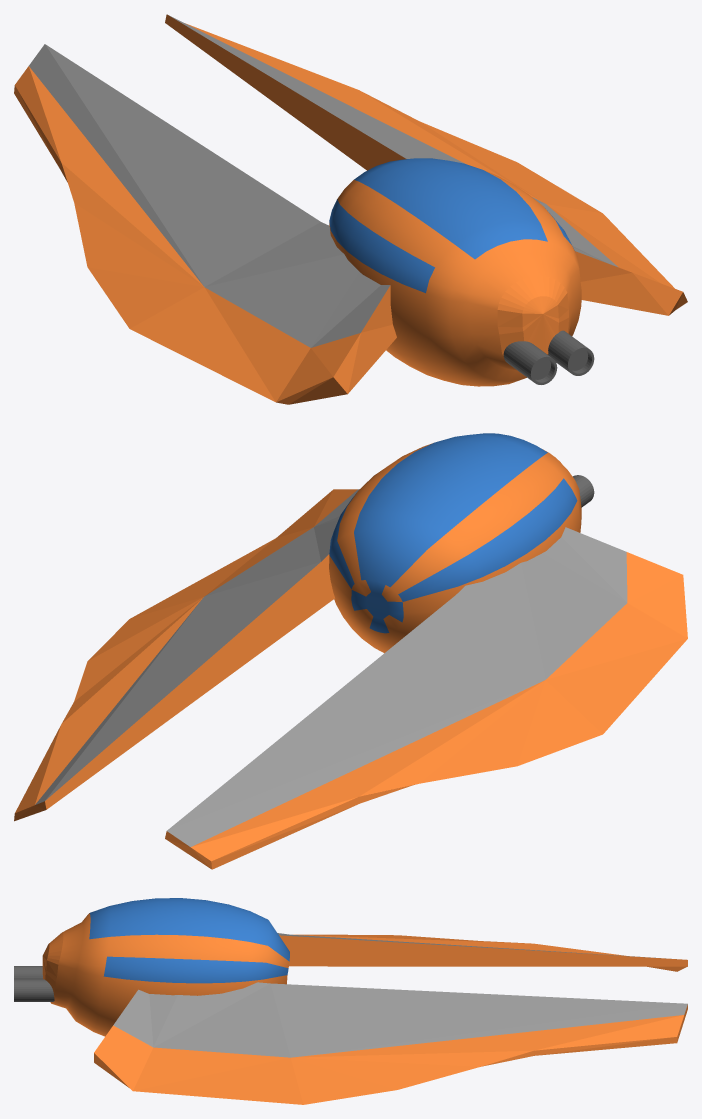
The model's file is JediETA.dae.
3 renders of one model, top to bottom at view 1: azimuth 30°, elevation 25°; view 2: azimuth 150°, elevation 25°; view 3: azimuth 270°, elevation 25°, orthographic. The views are drawn at different scales.
Parts seen in each view (by area): view 1: Cube; view 2: Cube; view 3: Cube.
Boxes of the visible parts, bbox=[...] form: Cube: bbox=[14, 14, 687, 404]; Cube: bbox=[14, 433, 687, 869]; Cube: bbox=[14, 898, 687, 1104].
Size of the model in its own units: 3.58 by 5.98 by 1.31.
Materials: 2 (2 with a texture image).
